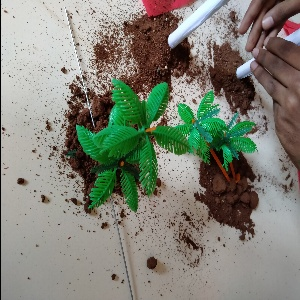plant: (78, 78, 177, 216), (170, 95, 249, 186)
weed: (162, 1, 225, 49)
